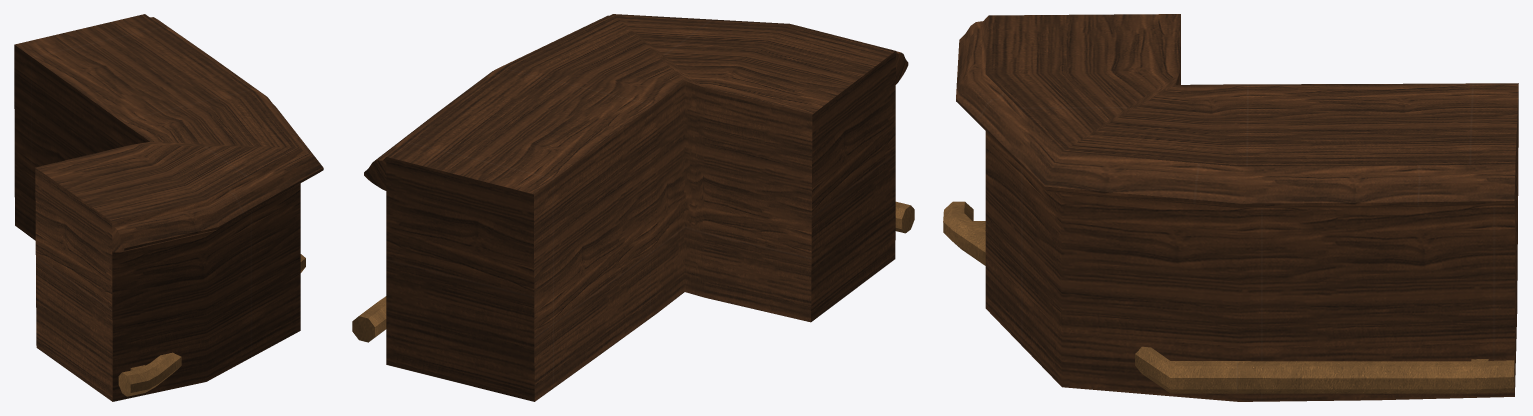
Rendered from Bent_Bench.fbx.
3 views of the same model, side by side, from view 1: azimuth 30°, elevation 25°; view 2: azimuth 150°, elevation 25°; view 3: azimuth 270°, elevation 25° (orthographic). The views are drawn at different scales.
Visible parts, largest first — view 1: Mesh_Bench:Mesh_Bench:pCylinder1; view 2: Mesh_Bench:Mesh_Bench:pCylinder1; view 3: Mesh_Bench:Mesh_Bench:pCylinder1.
Boxes of the visible parts, x1,y1,x2,y2 form: Mesh_Bench:Mesh_Bench:pCylinder1: (14,14,323,401); Mesh_Bench:Mesh_Bench:pCylinder1: (352,14,914,401); Mesh_Bench:Mesh_Bench:pCylinder1: (943,14,1518,401).
Size of the model in its own units: 251 by 162 by 359.
